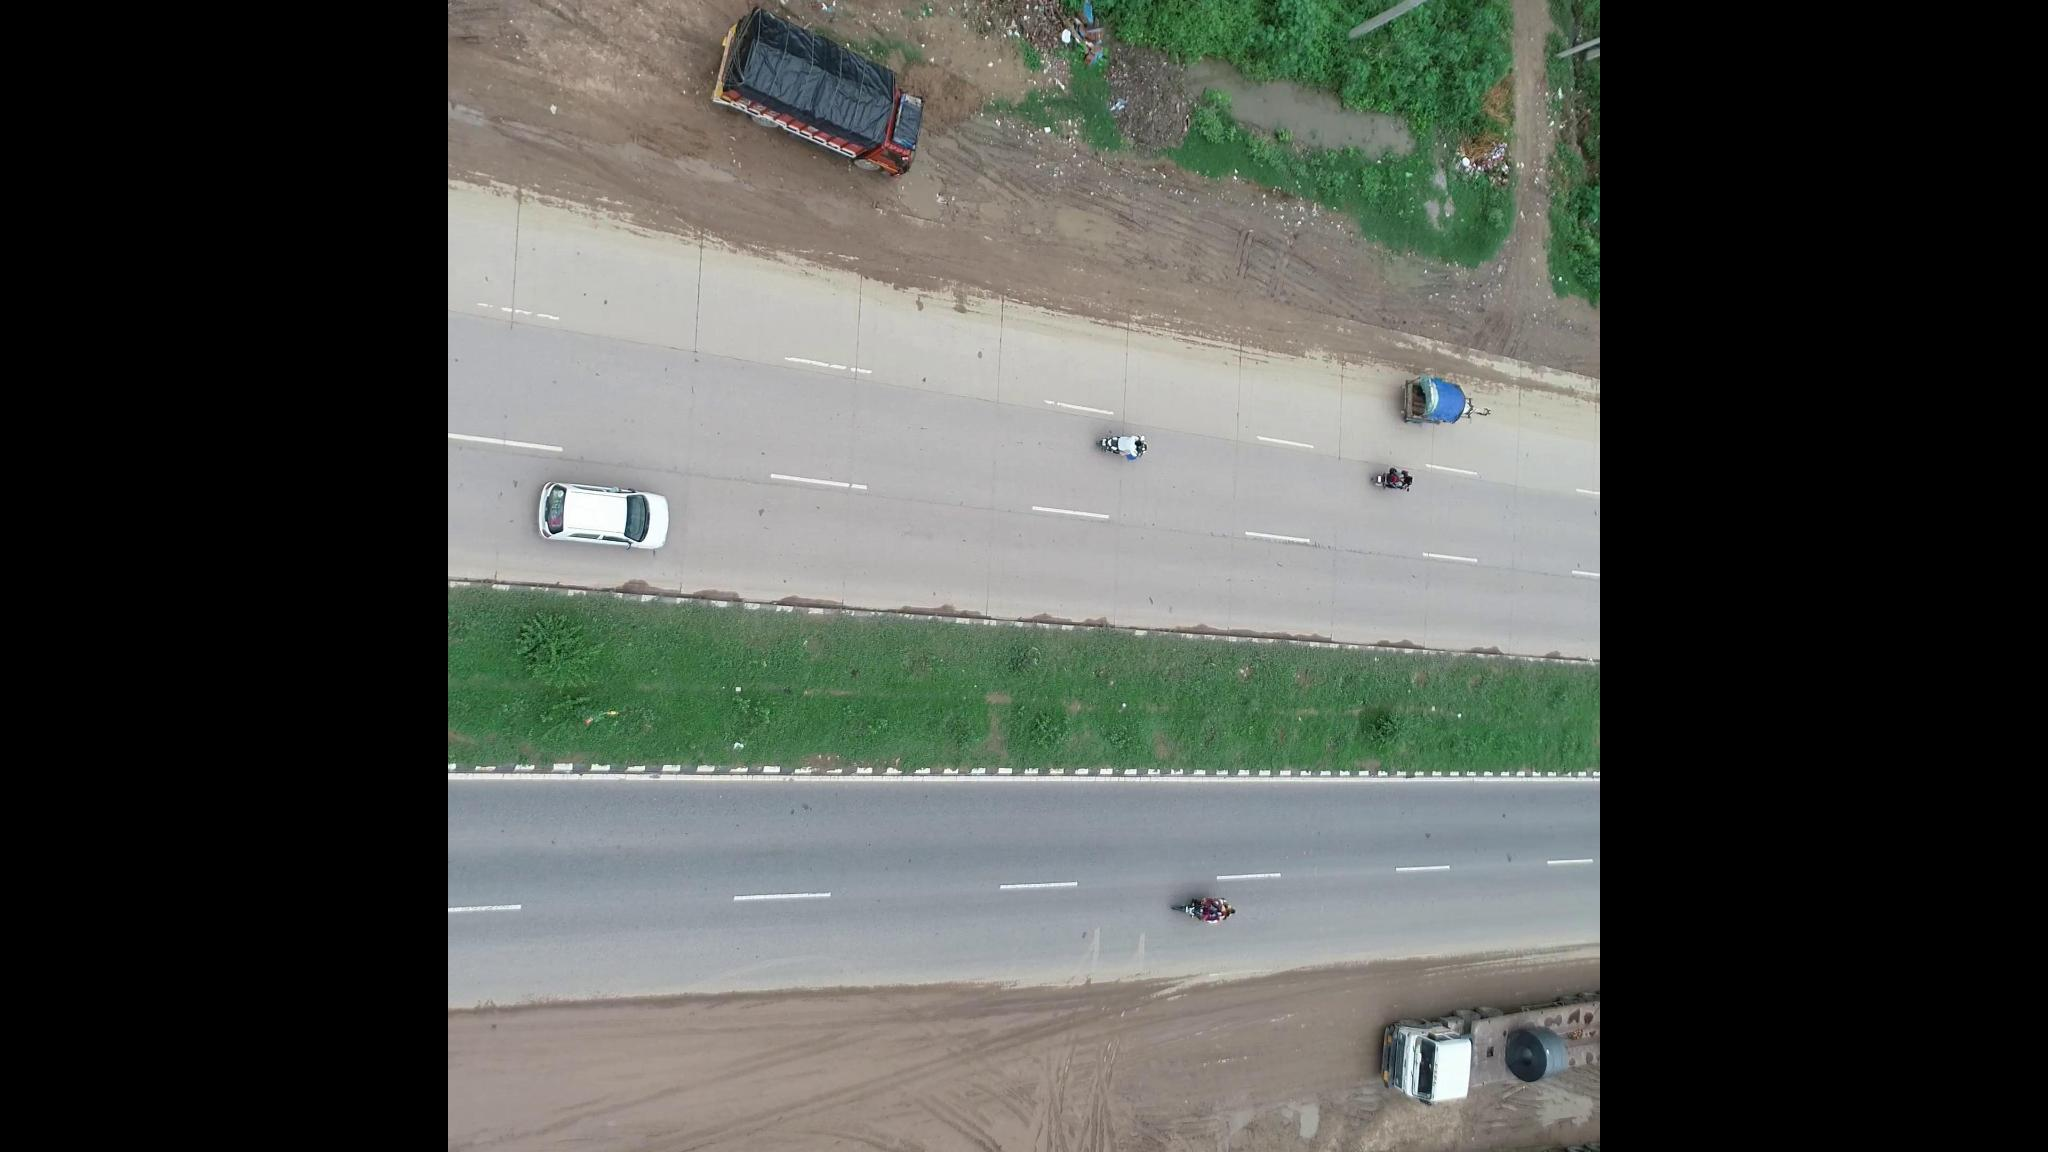Muddy_road: (911, 966, 1370, 1146), (450, 1006, 906, 1152)
